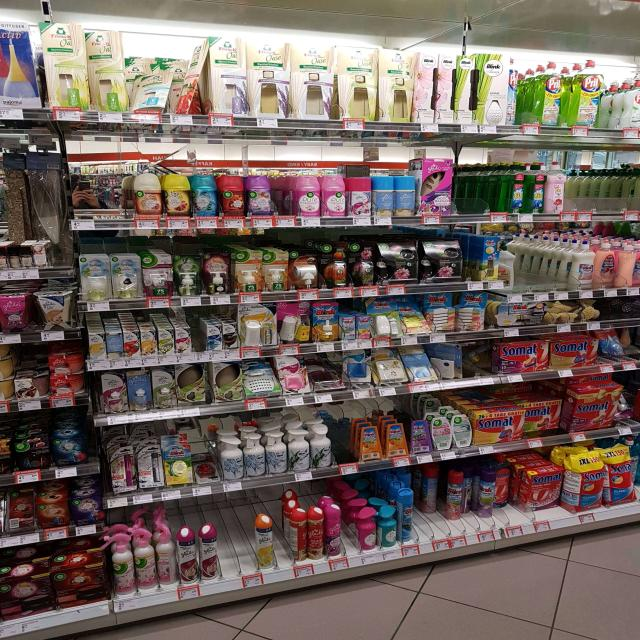void: (70, 154, 127, 230), (454, 155, 498, 223), (569, 158, 603, 222), (222, 508, 248, 590), (514, 231, 542, 302), (541, 238, 569, 301), (336, 420, 362, 474)
